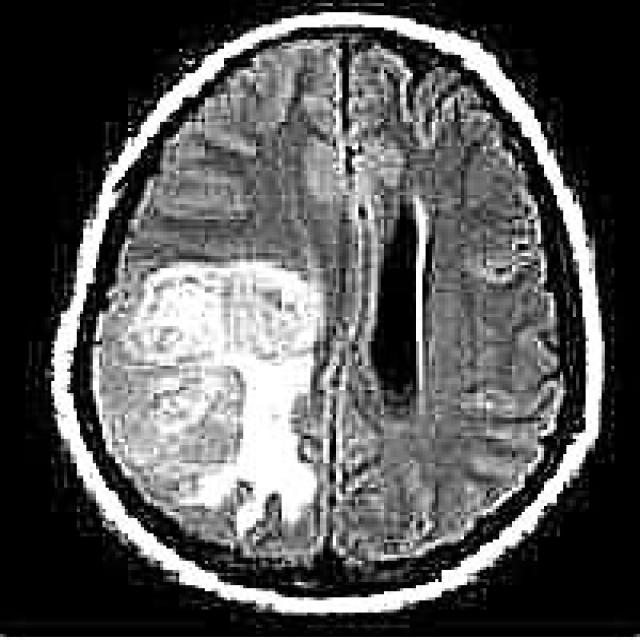Tumor-Cell: (153, 252, 339, 470)
